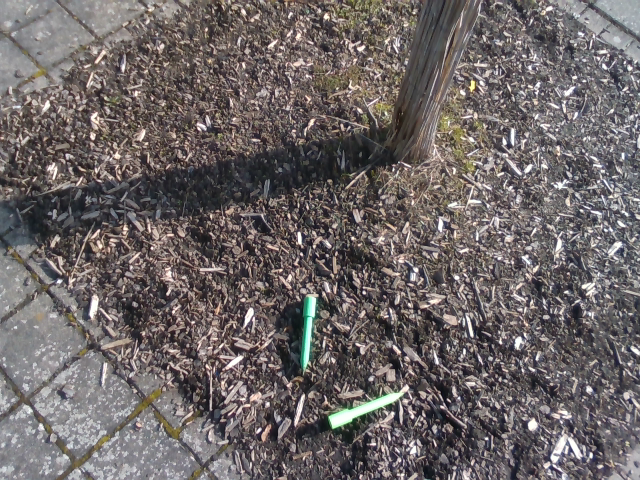Probe: (324, 381, 413, 434), (293, 289, 320, 383)
